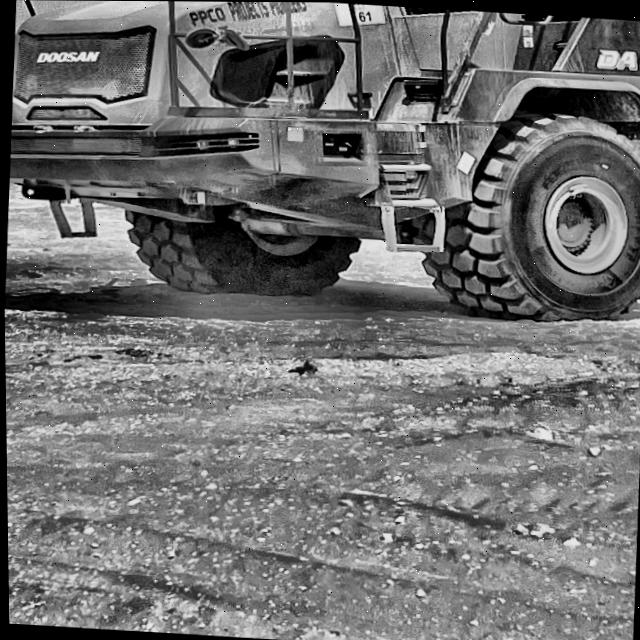dump_truck: (0, 0, 640, 335)
